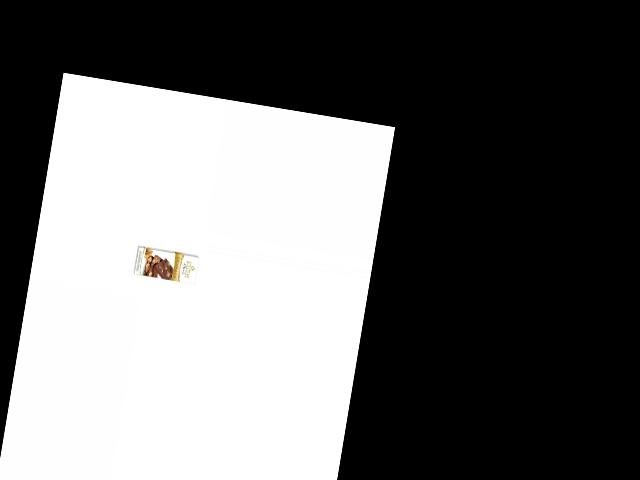chocolate: (133, 240, 204, 291)
